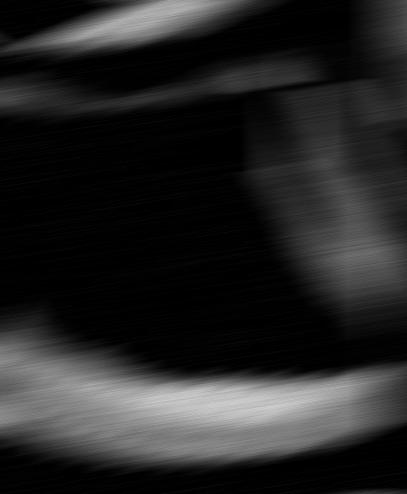Airbag: (0, 0, 406, 494), (383, 1, 407, 309)
